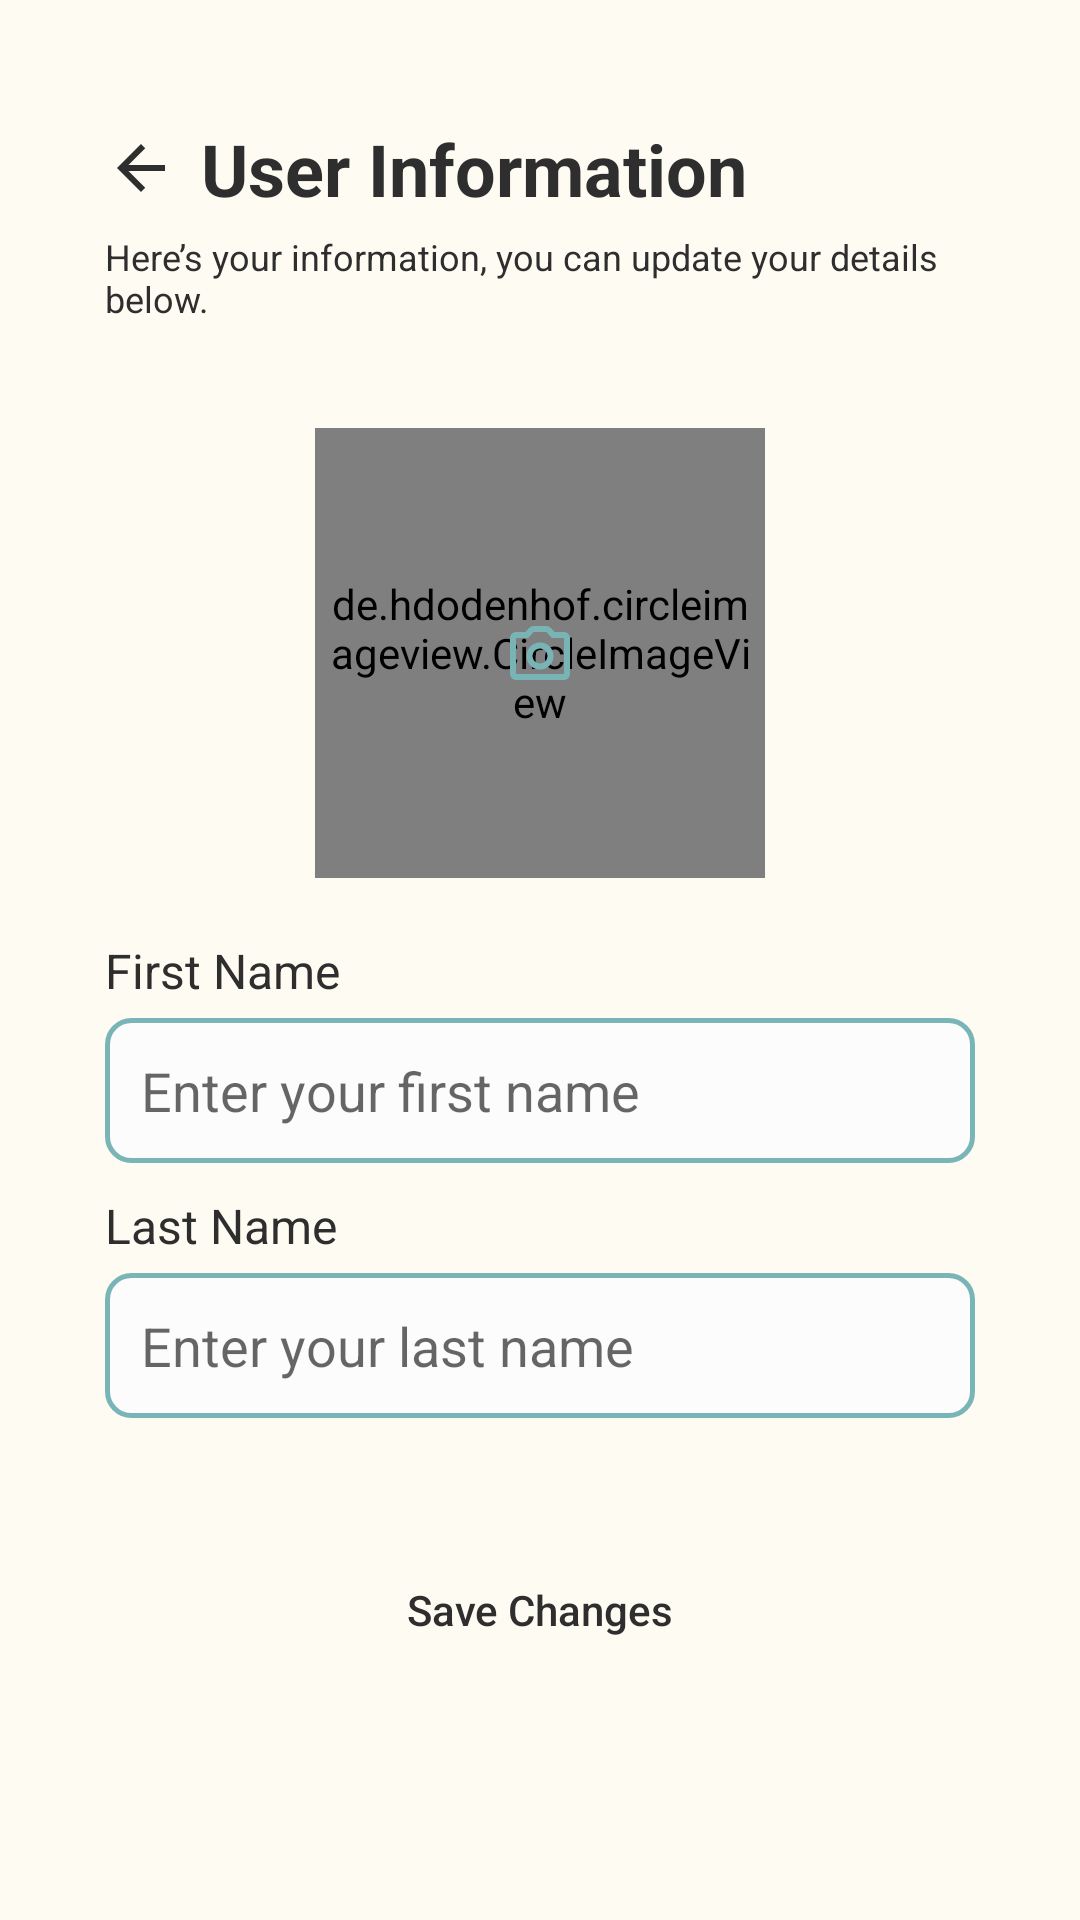

Icons on this 1080w x 1920h Android screen, each with its box as (x1, y1, x2, y2):
back: (117, 144, 165, 192)
